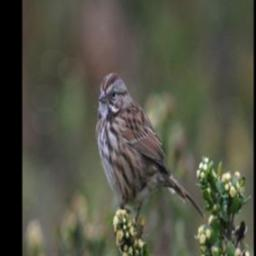Sparrow: (91, 70, 205, 241)
